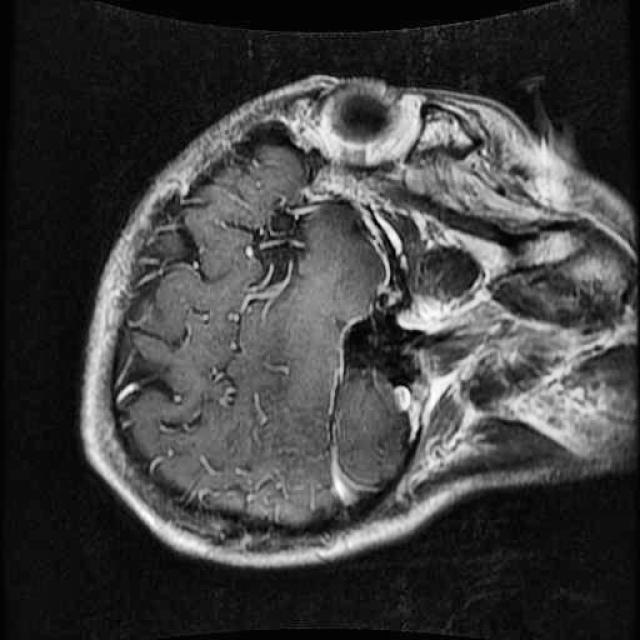Tumor: (237, 196, 334, 290)
